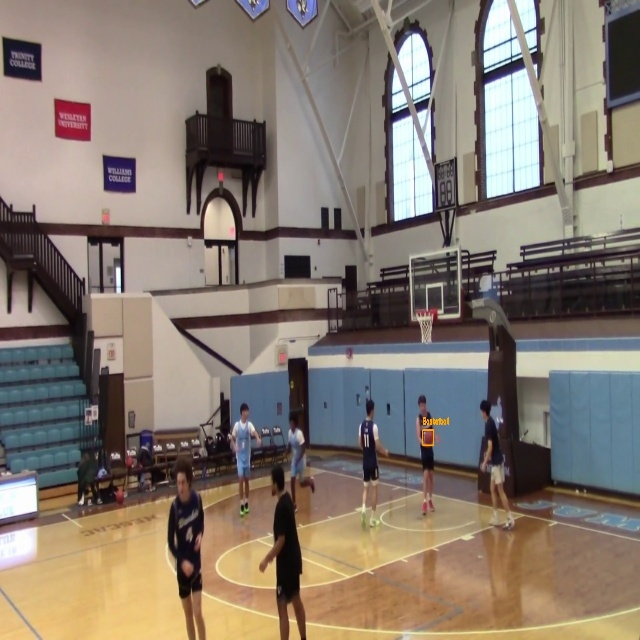Basketball: (423, 430, 434, 445)
